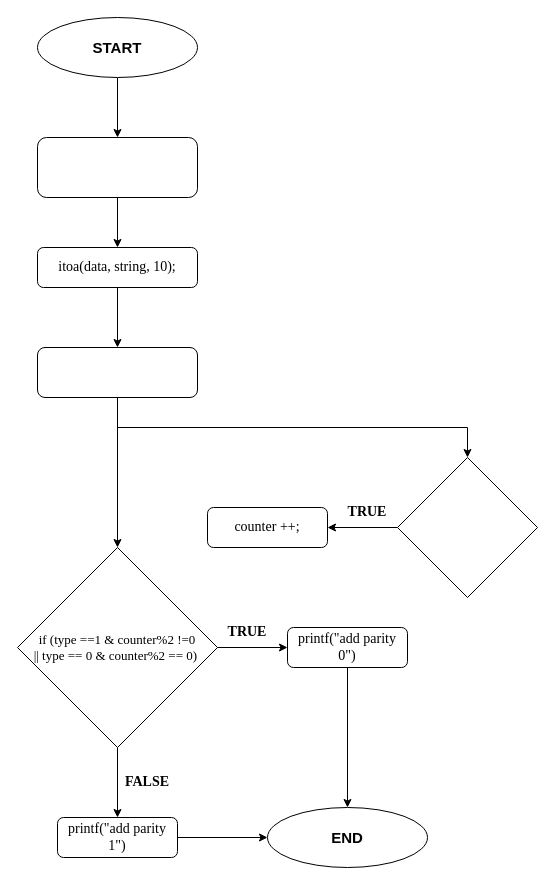
This 555x885 diagram has some shape labels left out. Each missing label, with the centre of its shape:
"for(i = 0; i <= strlen(string); i++)" belongs at [117,372].
"if(string[i] == '1')" belongs at [467,527].
"uint8_t i; uint8_t counter; char_string[8];" belongs at [117,167].
